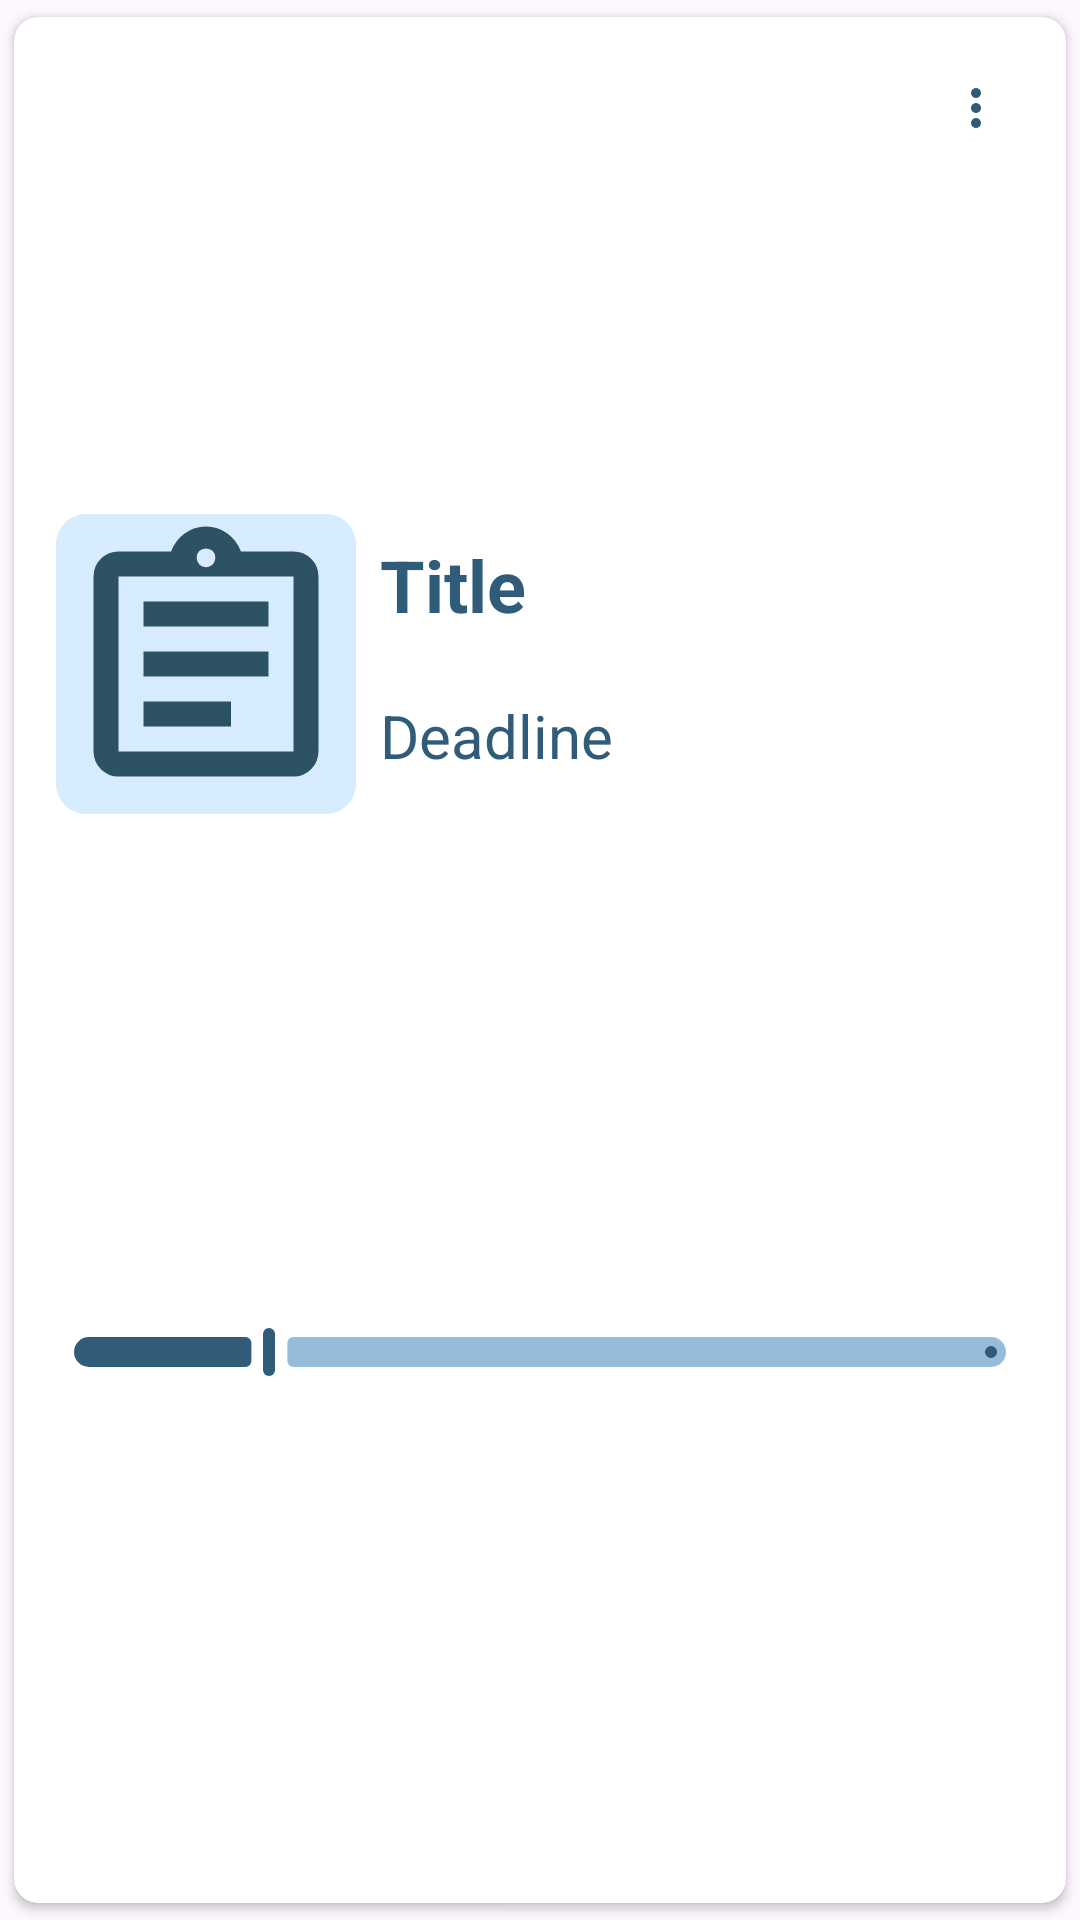

Screen size 1080px x 1920px. Icon name, then its box in pixels as region(x1, y1, x2, y2):
assignment: region(56, 514, 356, 814)
menu: region(971, 88, 981, 128)
